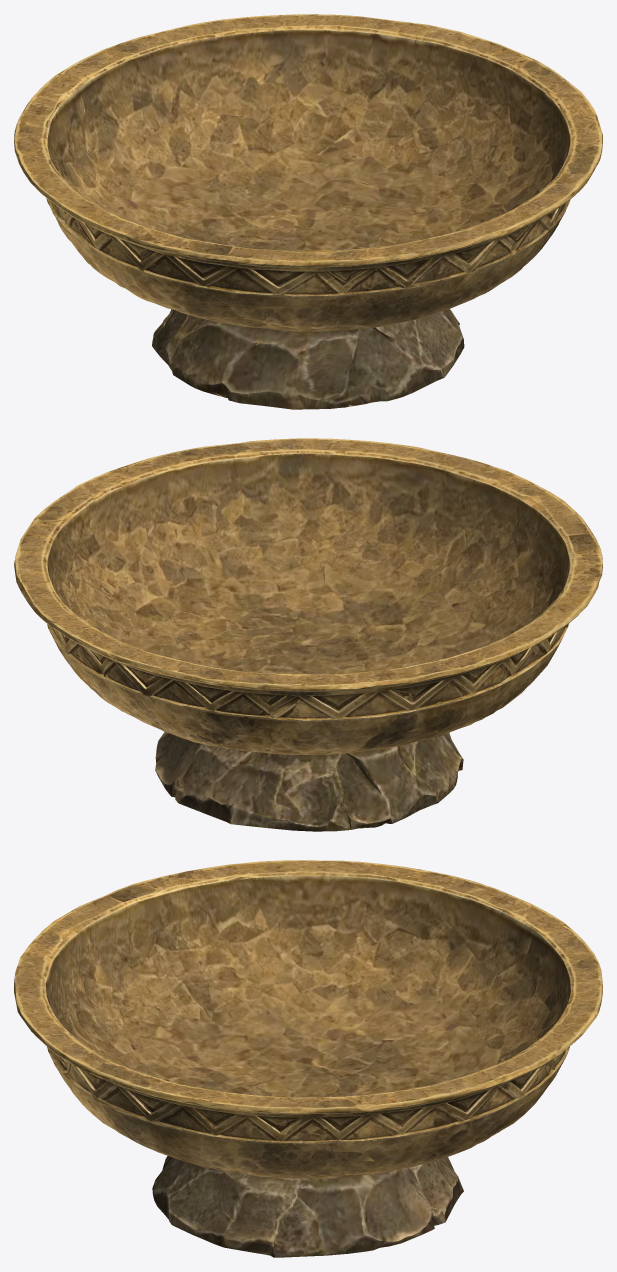
Rendered from lake-basin.glb.
The picture shows the model from 3 angles, top to bottom: view 1: azimuth 30°, elevation 25°; view 2: azimuth 150°, elevation 25°; view 3: azimuth 270°, elevation 25°; orthographic projection.
Visible parts, largest first — view 1: Mesh_0; view 2: Mesh_0; view 3: Mesh_0.
Part boxes in pixels (x1,y1,x2,y2): Mesh_0: (14,14,602,409); Mesh_0: (14,438,602,831); Mesh_0: (14,860,602,1257).
Bounding box in the file's own units: 1.9 × 0.7401 × 1.9.
Materials: 1 (1 with a texture image).
